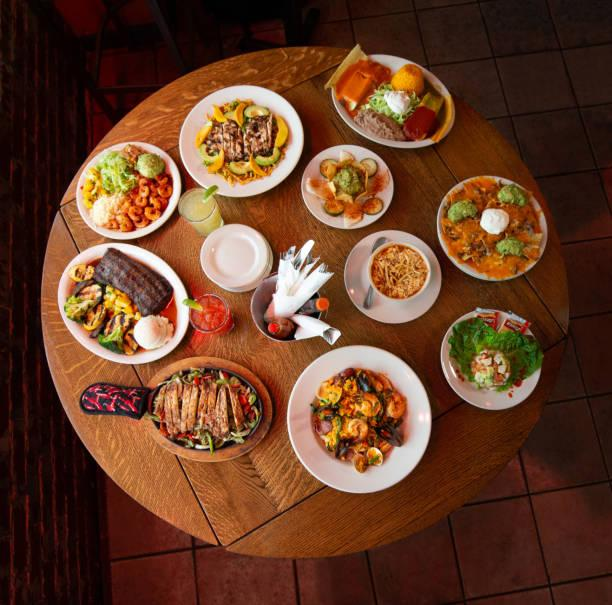Braised Crucian Carp: (285, 345, 430, 495), (57, 242, 189, 365), (178, 83, 304, 198), (145, 357, 274, 461), (329, 53, 454, 149), (436, 176, 546, 281), (74, 142, 181, 240), (439, 311, 542, 410), (343, 230, 442, 323), (299, 144, 393, 230)
